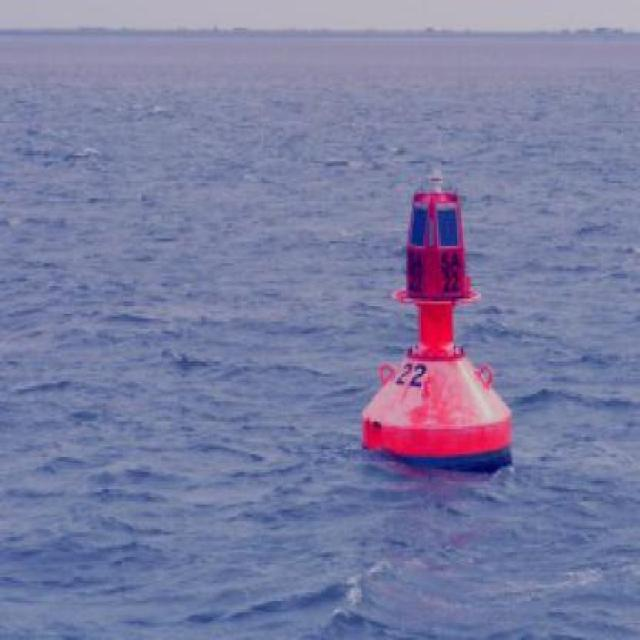buoy: (349, 149, 524, 488)
